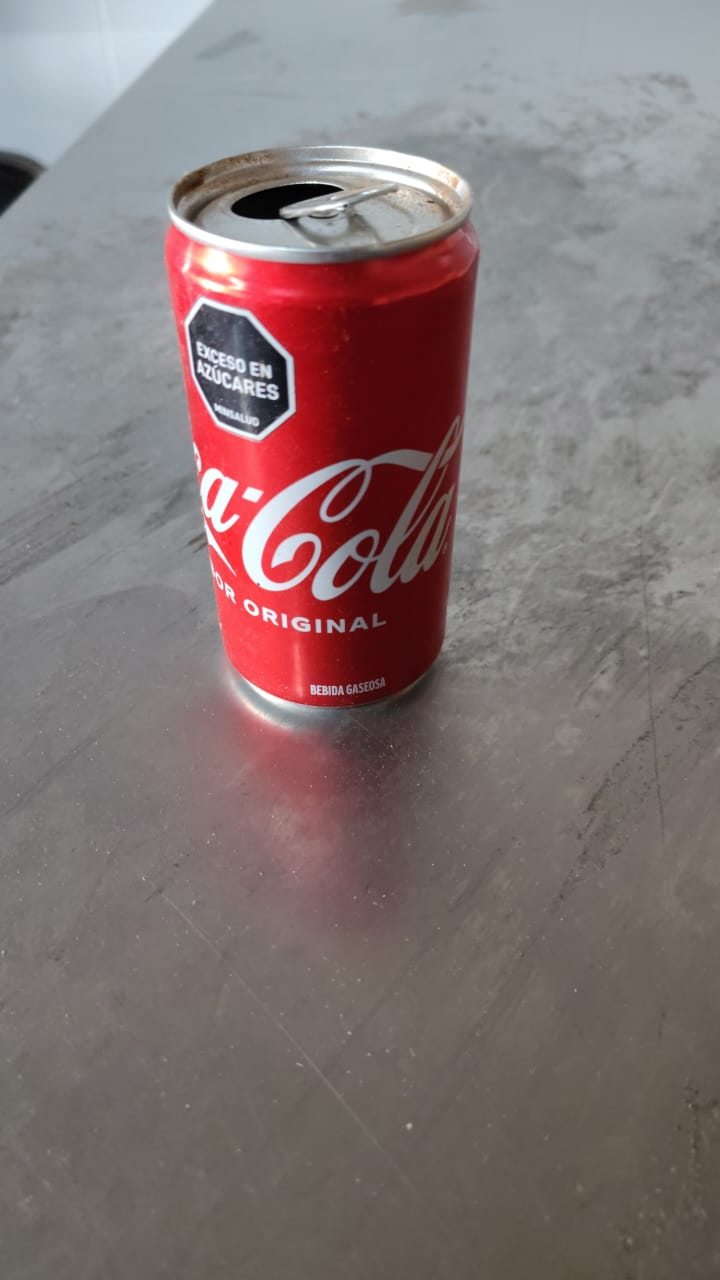Metal: (170, 143, 480, 716)
